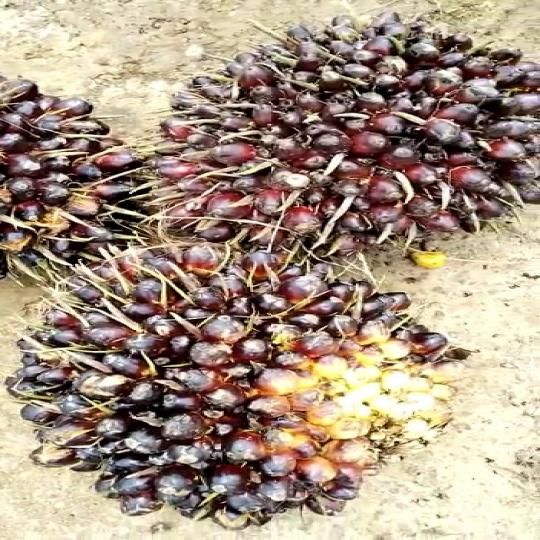mentah: (13, 237, 465, 527), (148, 4, 540, 278)
